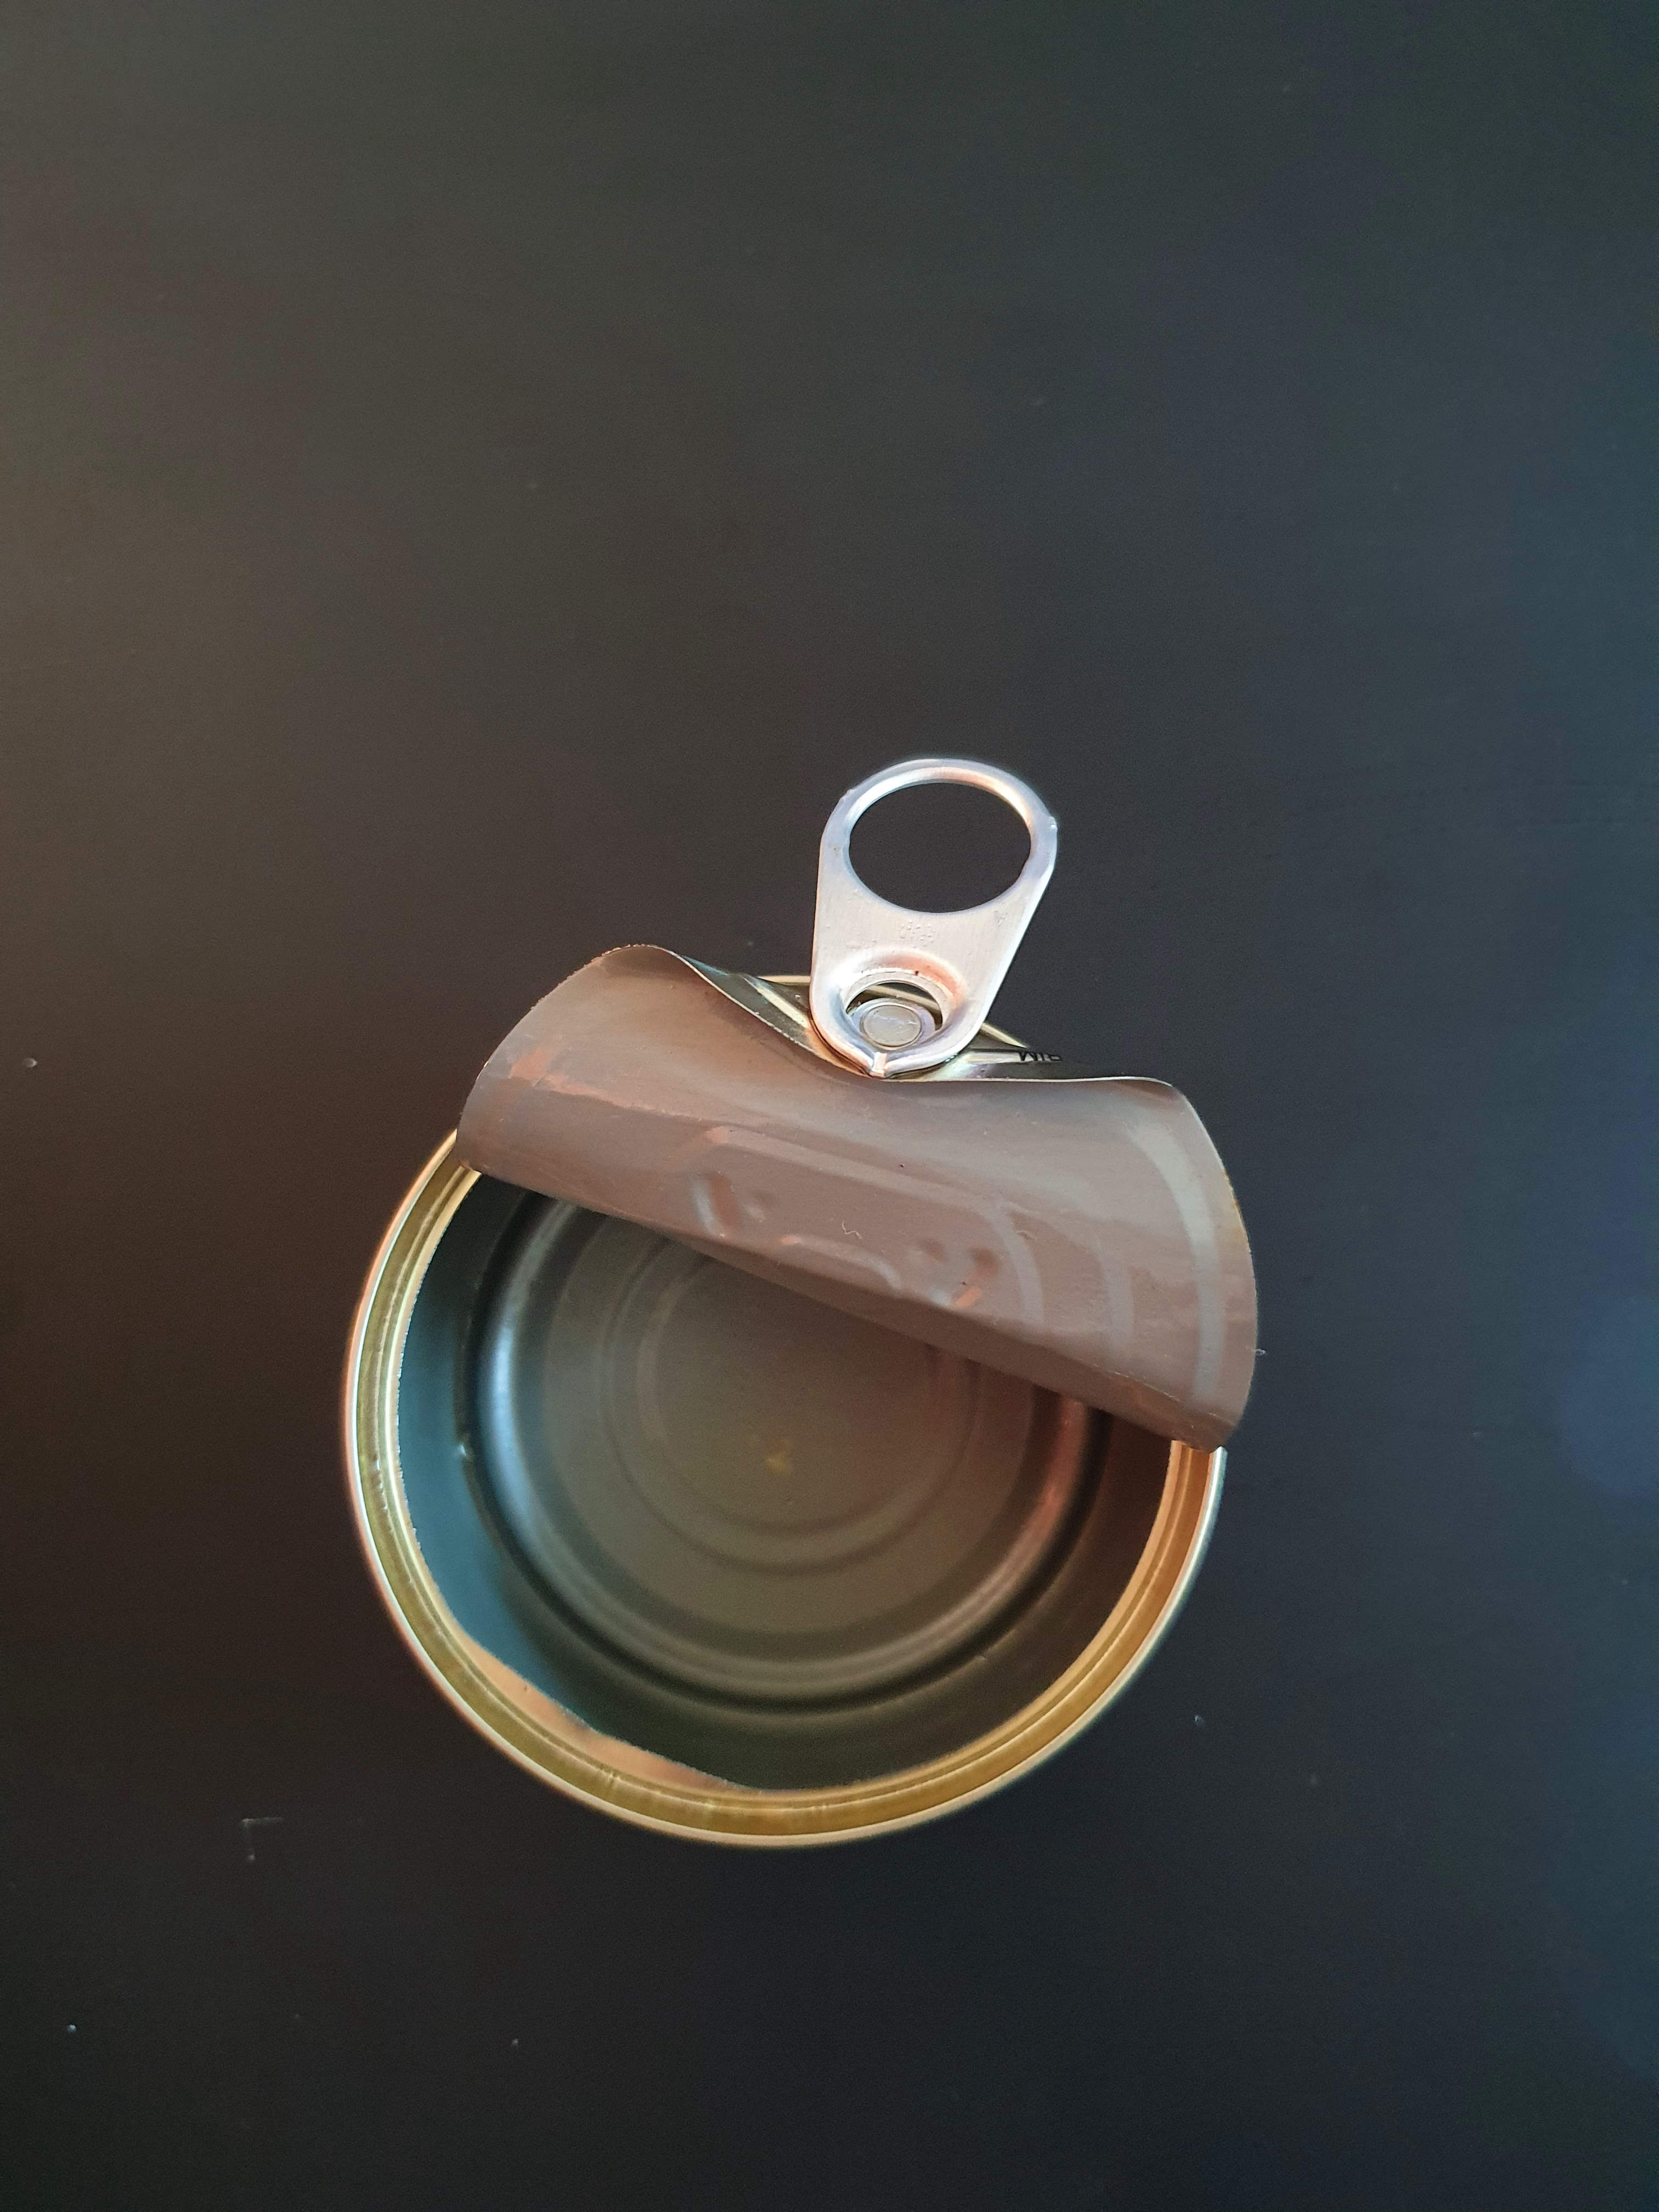metal: (272, 705, 1314, 1932)
